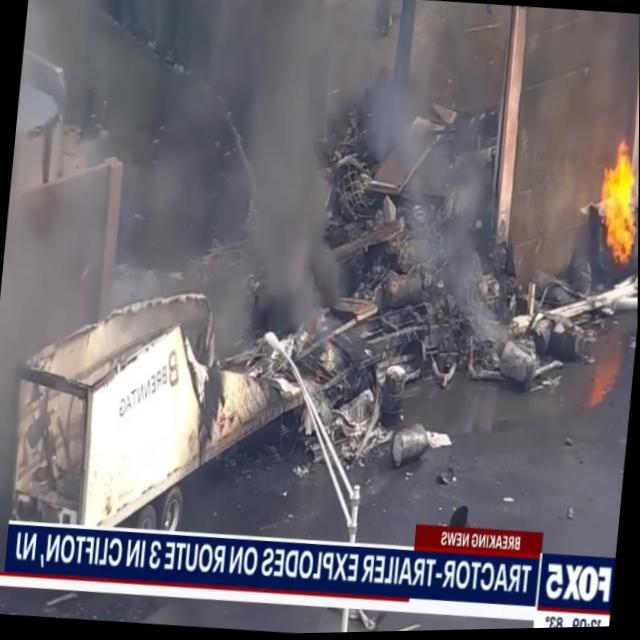Fire: (589, 129, 639, 271)
